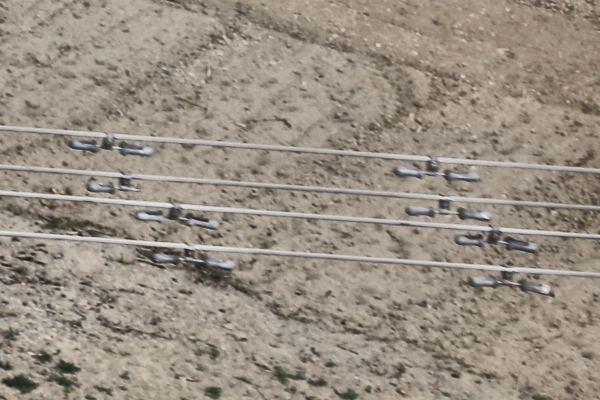damper: (463, 262, 554, 297), (391, 150, 481, 184), (64, 127, 156, 160), (133, 199, 222, 232), (450, 221, 539, 254), (150, 239, 237, 272), (402, 192, 492, 222)
damper_defect: (82, 169, 144, 194)
